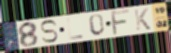0: (88, 13, 106, 37)
8: (16, 20, 40, 48)
F: (110, 9, 131, 37)
K: (133, 7, 152, 31)
L: (66, 17, 85, 41)
S: (39, 19, 60, 44)
